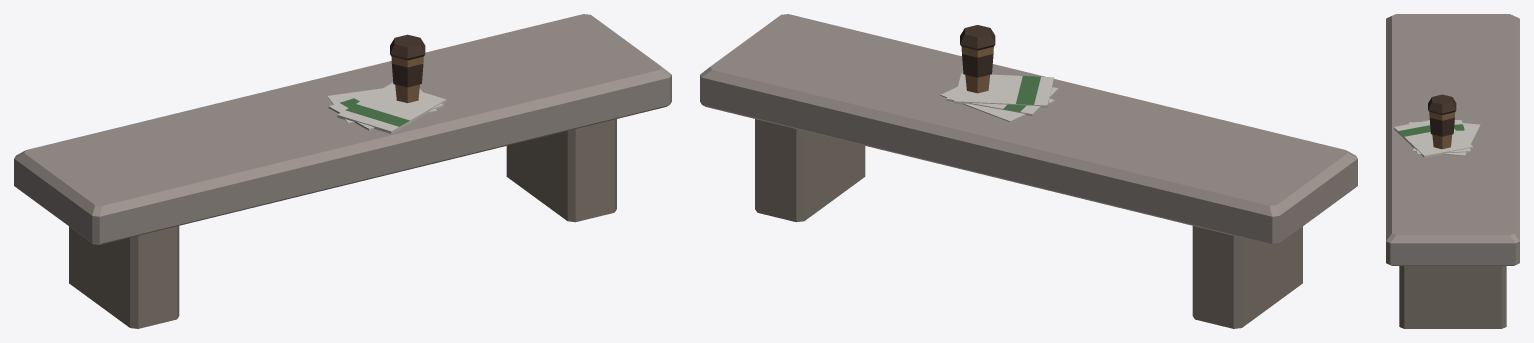
File: campus-bench-0d6036.glb
The picture shows the model from 3 angles, left to right: view 1: azimuth 30°, elevation 25°; view 2: azimuth 150°, elevation 25°; view 3: azimuth 270°, elevation 25°; orthographic projection. The views are drawn at different scales.
Visible parts, largest first — view 1: bench, dressing-mesh, flyer-flap-mesh; view 2: bench, dressing-mesh, flyer-flap-mesh; view 3: bench, dressing-mesh, flyer-flap-mesh.
Boxes of the visible parts, box(x1,y1,x2,y2) form: bench: box(14, 14, 671, 328); dressing-mesh: box(327, 34, 446, 130); flyer-flap-mesh: box(337, 95, 424, 133); bench: box(700, 14, 1357, 328); dressing-mesh: box(940, 25, 1058, 121); flyer-flap-mesh: box(991, 75, 1054, 108); bench: box(1386, 14, 1519, 328); dressing-mesh: box(1408, 94, 1480, 157); flyer-flap-mesh: box(1394, 120, 1460, 146).
Size of the model in its own units: 2 by 0.6471 by 0.5.
